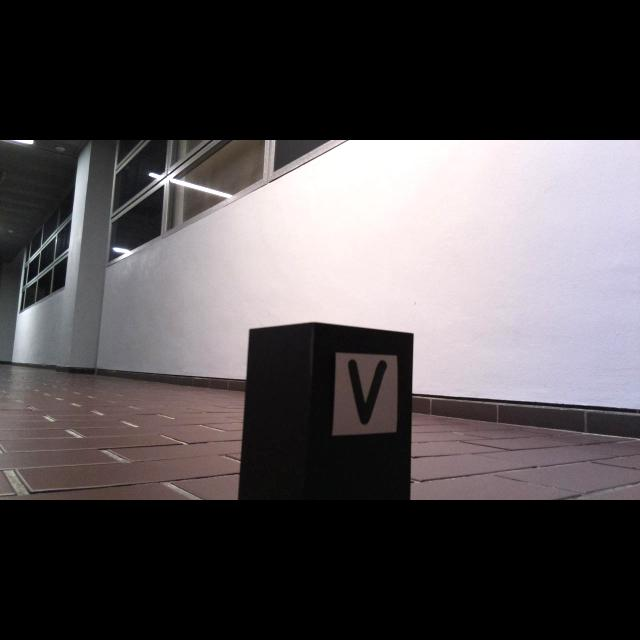V: (348, 360, 387, 425)
